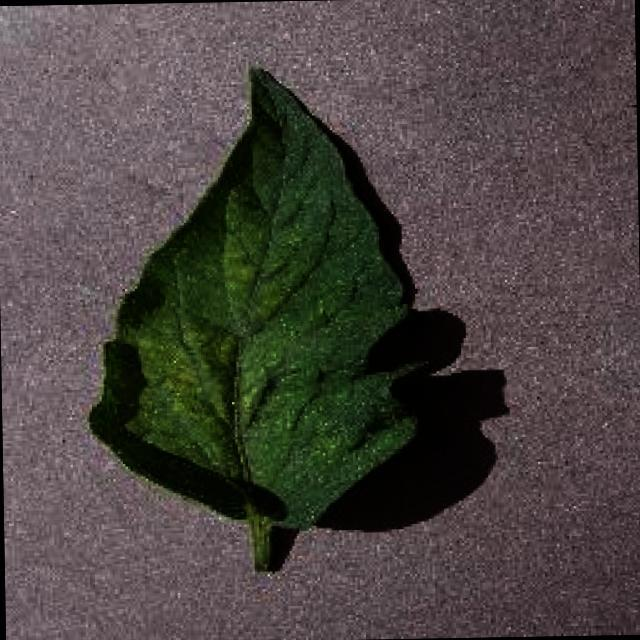Tomato spider mites leaf: (82, 61, 425, 532)
